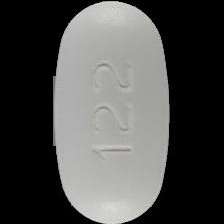63187-451: (0, 0, 224, 224)
